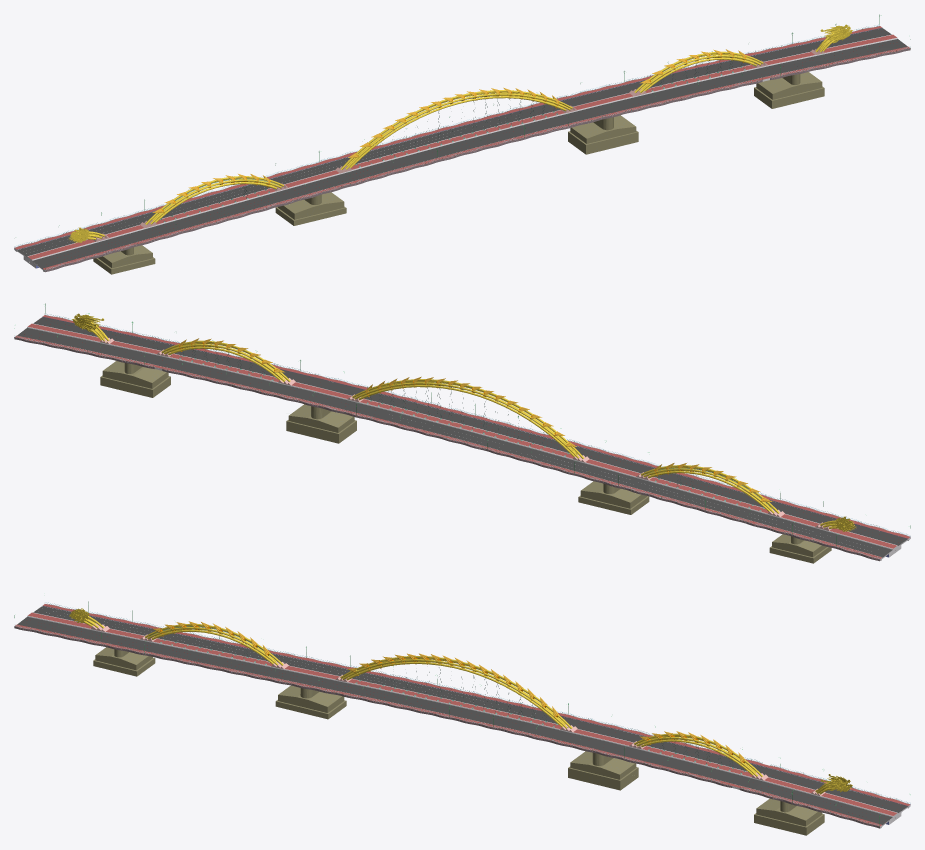
File: cau-rong.glb
3 renders of one model, top to bottom at view 1: azimuth 30°, elevation 25°; view 2: azimuth 150°, elevation 25°; view 3: azimuth 330°, elevation 25°, orthographic.
Visible parts, largest first — view 1: Material #437_Material #437_0; view 2: Material #437_Material #437_0; view 3: Material #437_Material #437_0.
Boxes of the visible parts, x1,y1,x2,y2 form: Material #437_Material #437_0: (14, 14, 910, 274); Material #437_Material #437_0: (14, 303, 910, 563); Material #437_Material #437_0: (14, 601, 910, 835).
Bounding box in the file's own units: 59294 × 5746 × 3862.
Materials: 1 (1 with a texture image).
